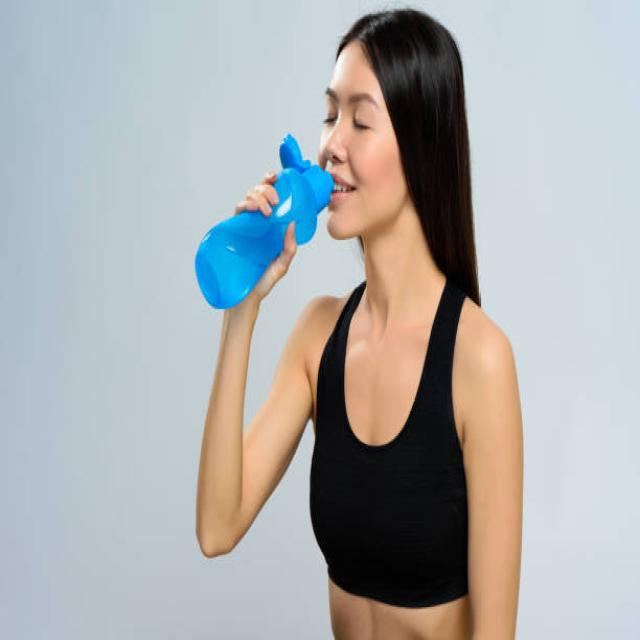blue_bottle: (187, 130, 340, 315)
